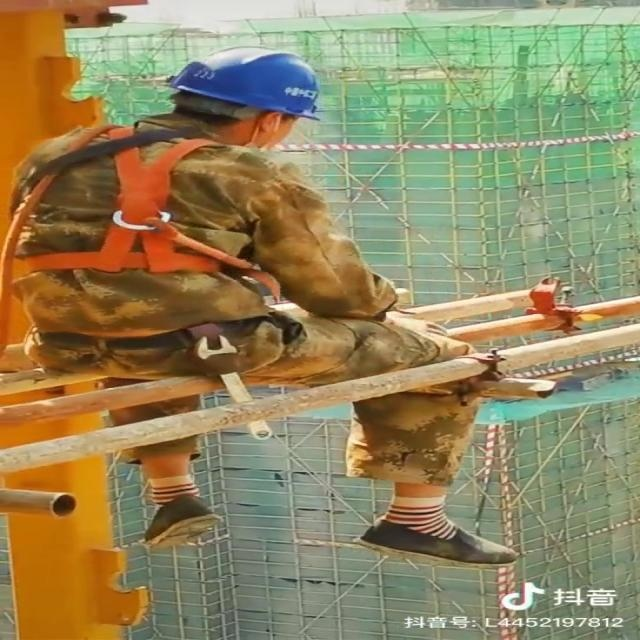Arnes_seguridad: (4, 117, 296, 303)
